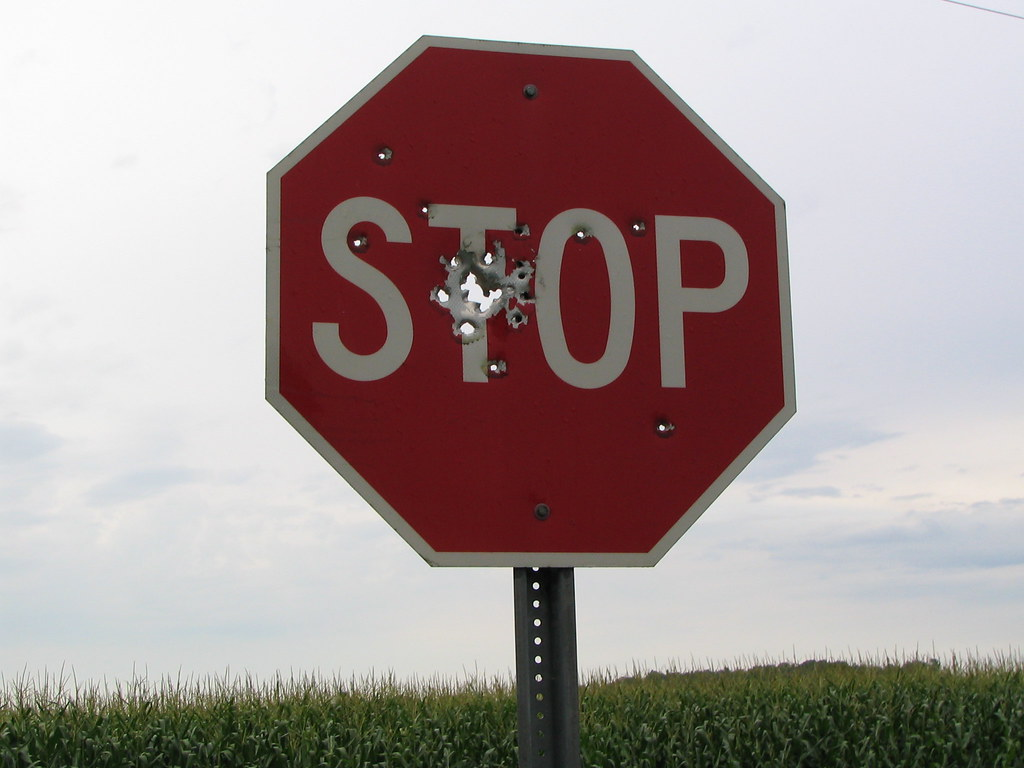stop: (275, 44, 797, 577), (275, 42, 788, 447), (274, 186, 796, 575), (274, 53, 641, 578)
